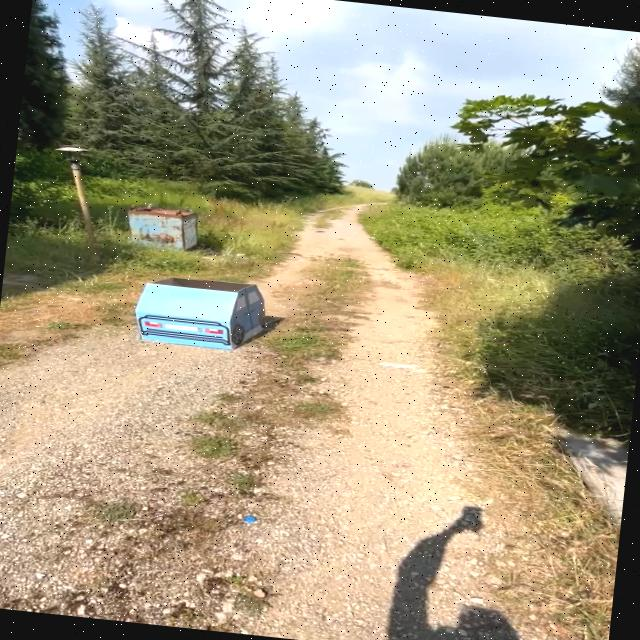blue_car: (116, 261, 289, 375)
